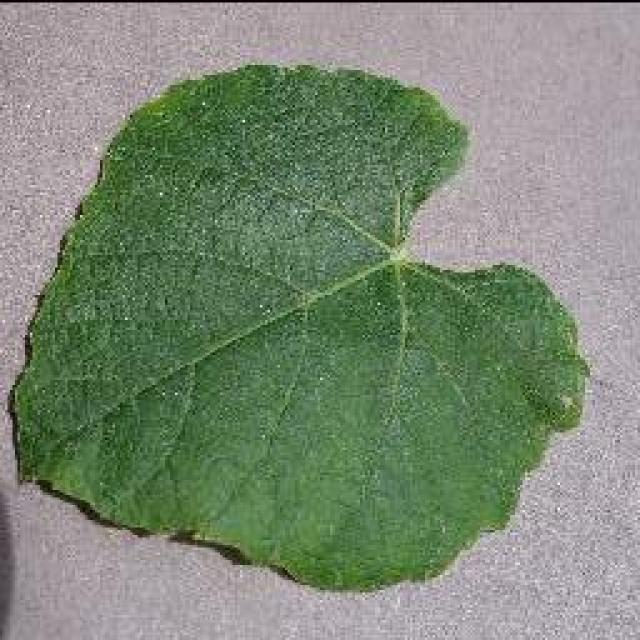Grape___healthy: (12, 65, 585, 588)
